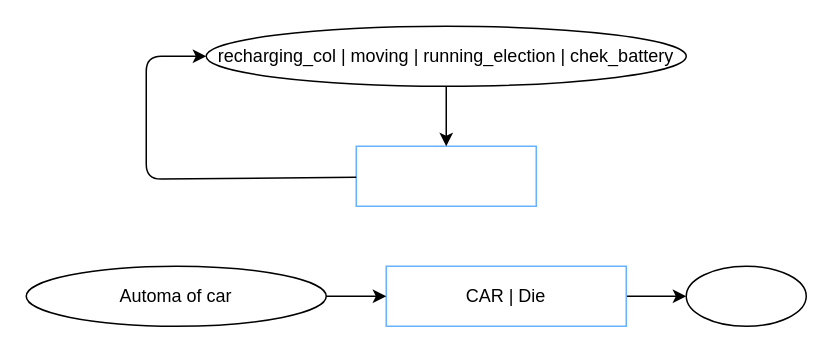
The diagram is 833 pixels wide and 353 high, and some of its shapes have lost their labels. The shapes that lost their labels are listed below. From the top down, each one's centre as x and y in pixels, then its label:
pixel 445 175: CLK | Tick
pixel 745 295: dead
